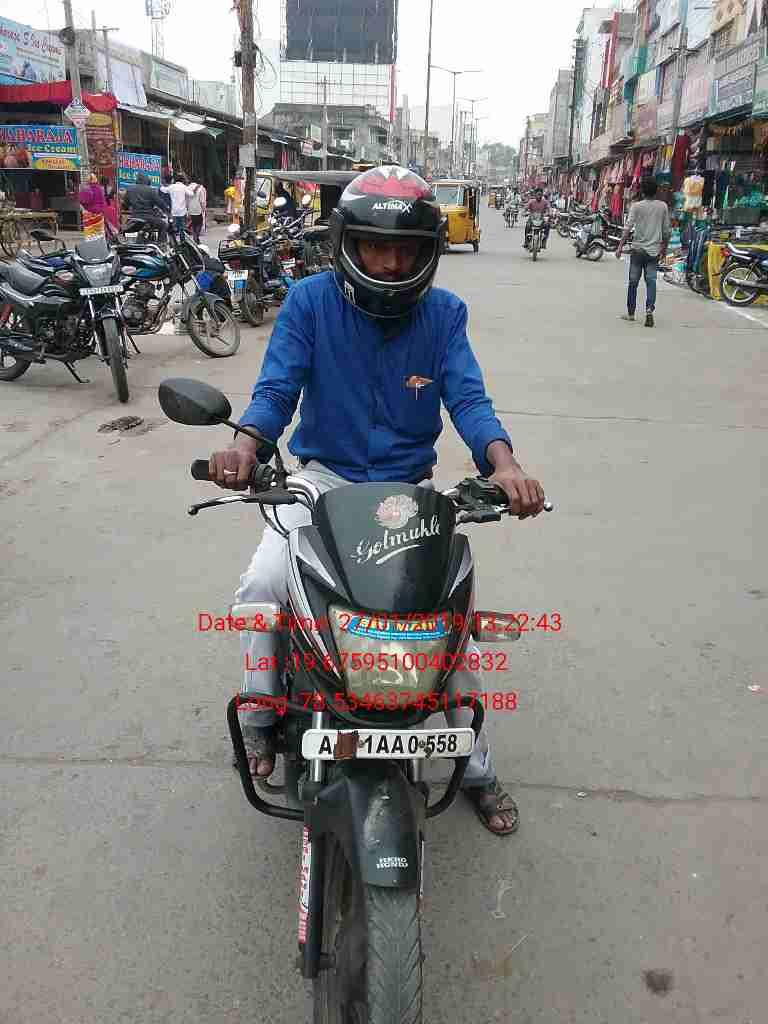plate: (300, 727, 477, 760)
